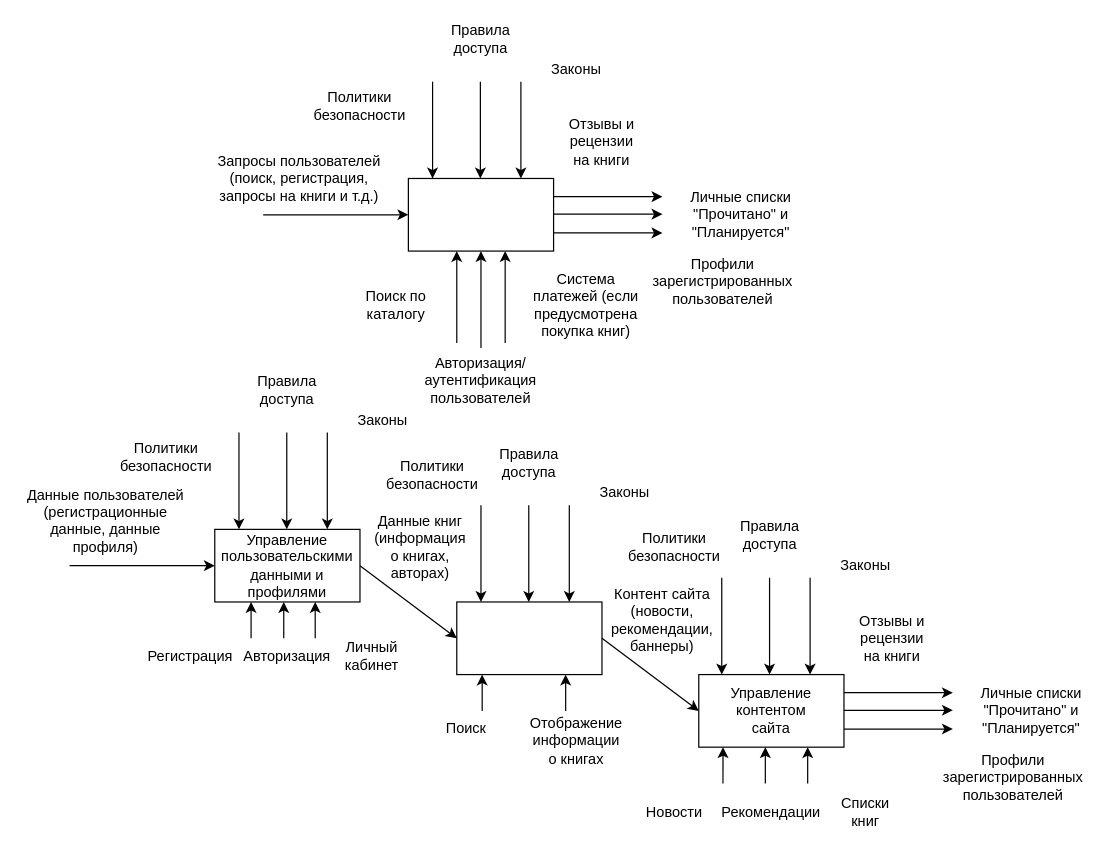
Some shapes in this 1106 by 851 pixel diagram are drawn without their labels. The centre of each missing label's shape, as x and y in pixels:
Предоставление онлайн доступа к библиотечному каталогу: the point at 480,214
Управление каталогом книг: the point at 529,638
